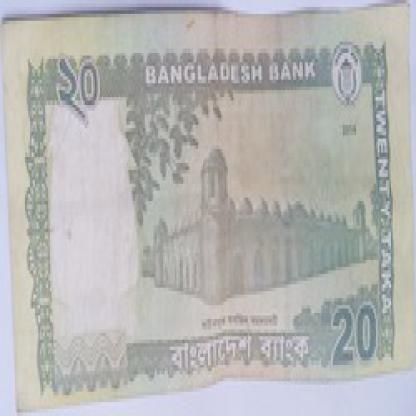Twenty: (320, 291, 379, 364), (53, 56, 115, 122)
